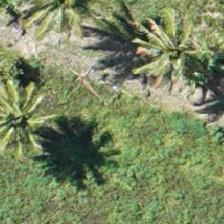coconut_tree: (131, 3, 221, 93), (0, 76, 56, 166)
